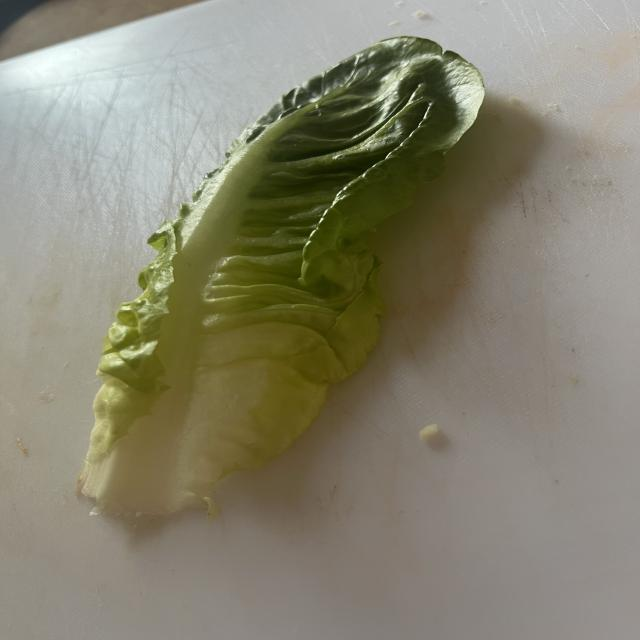lettuce: (79, 37, 483, 517)
